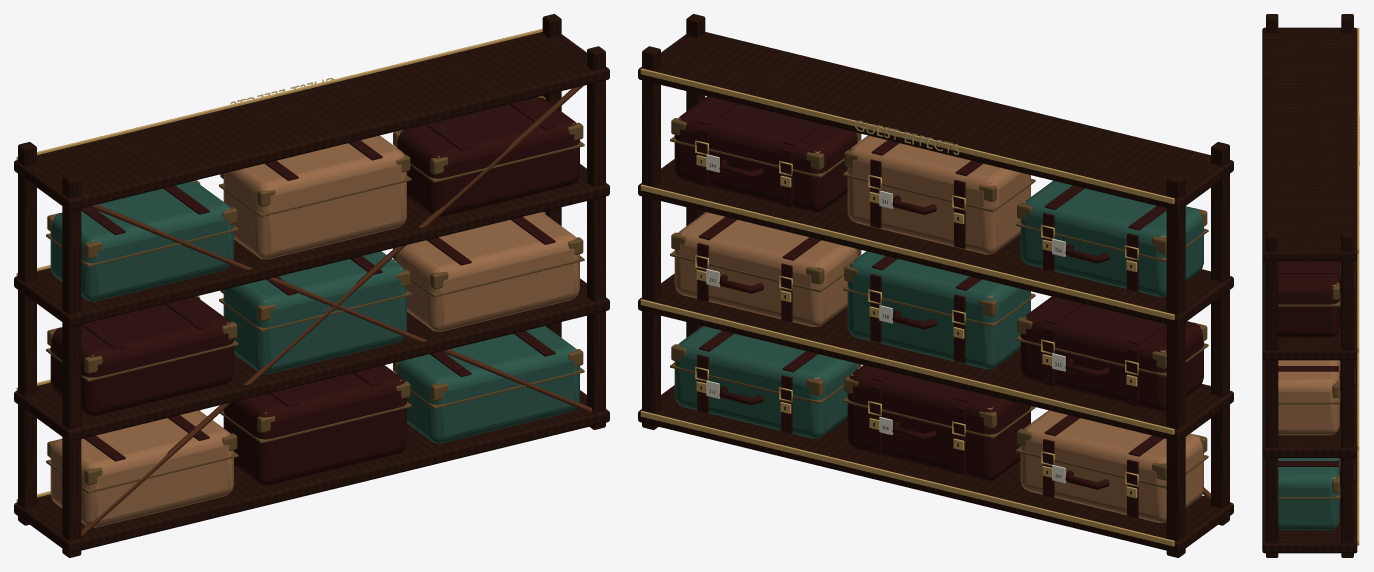
Rendered from hotel-luggage-shelf.glb.
3 views of the same model, side by side, from view 1: azimuth 30°, elevation 25°; view 2: azimuth 150°, elevation 25°; view 3: azimuth 270°, elevation 25° (orthographic). The views are drawn at different scales.
Visible parts, largest first — view 1: French walnut • quarter-sawn grain.001, Oxblood calfskin.001, Honey saddle leather.001, Bottle green leather writing pad.001, Aged bronze shadow details.001, Dark carved walnut.001, Warm satin brass.001; view 2: French walnut • quarter-sawn grain.001, Oxblood calfskin.001, Honey saddle leather.001, Bottle green leather writing pad.001, Warm satin brass.001, Aged bronze shadow details.001, Warm uncoated paper.001; view 3: French walnut • quarter-sawn grain.001, Oxblood calfskin.001, Honey saddle leather.001, Bottle green leather writing pad.001, Warm satin brass.001, Aged bronze shadow details.001.
Part boxes in pixels (x1=…): French walnut • quarter-sawn grain.001: x1=14, y1=14, x2=609, y2=557; Oxblood calfskin.001: x1=50, y1=97, x2=579, y2=485; Honey saddle leather.001: x1=50, y1=96, x2=579, y2=527; Bottle green leather writing pad.001: x1=50, y1=181, x2=579, y2=443; Aged bronze shadow details.001: x1=46, y1=96, x2=584, y2=493; Dark carved walnut.001: x1=81, y1=86, x2=592, y2=536; Warm satin brass.001: x1=16, y1=28, x2=542, y2=502; French walnut • quarter-sawn grain.001: x1=638, y1=14, x2=1233, y2=557; Oxblood calfskin.001: x1=674, y1=96, x2=1203, y2=518; Honey saddle leather.001: x1=674, y1=117, x2=1203, y2=522; Bottle green leather writing pad.001: x1=674, y1=180, x2=1203, y2=438; Warm satin brass.001: x1=640, y1=68, x2=1174, y2=546; Aged bronze shadow details.001: x1=670, y1=118, x2=1208, y2=488; Warm uncoated paper.001: x1=706, y1=154, x2=1065, y2=483; French walnut • quarter-sawn grain.001: x1=1262, y1=14, x2=1357, y2=557; Oxblood calfskin.001: x1=1278, y1=261, x2=1356, y2=518; Honey saddle leather.001: x1=1278, y1=284, x2=1339, y2=479; Bottle green leather writing pad.001: x1=1278, y1=458, x2=1339, y2=530; Warm satin brass.001: x1=1357, y1=27, x2=1359, y2=545; Aged bronze shadow details.001: x1=1278, y1=261, x2=1340, y2=499.
Bounding box in the file's own units: 3.76 × 2.5 × 0.6847.
11 materials, 2 textured.
